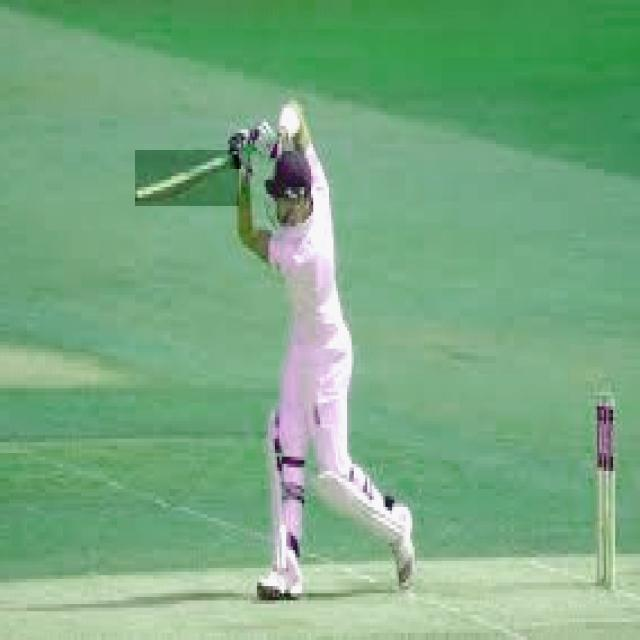bat: (135, 150, 235, 205)
toe: (130, 191, 154, 210)
